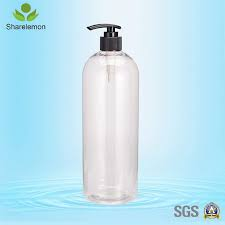available: (75, 20, 145, 209)
